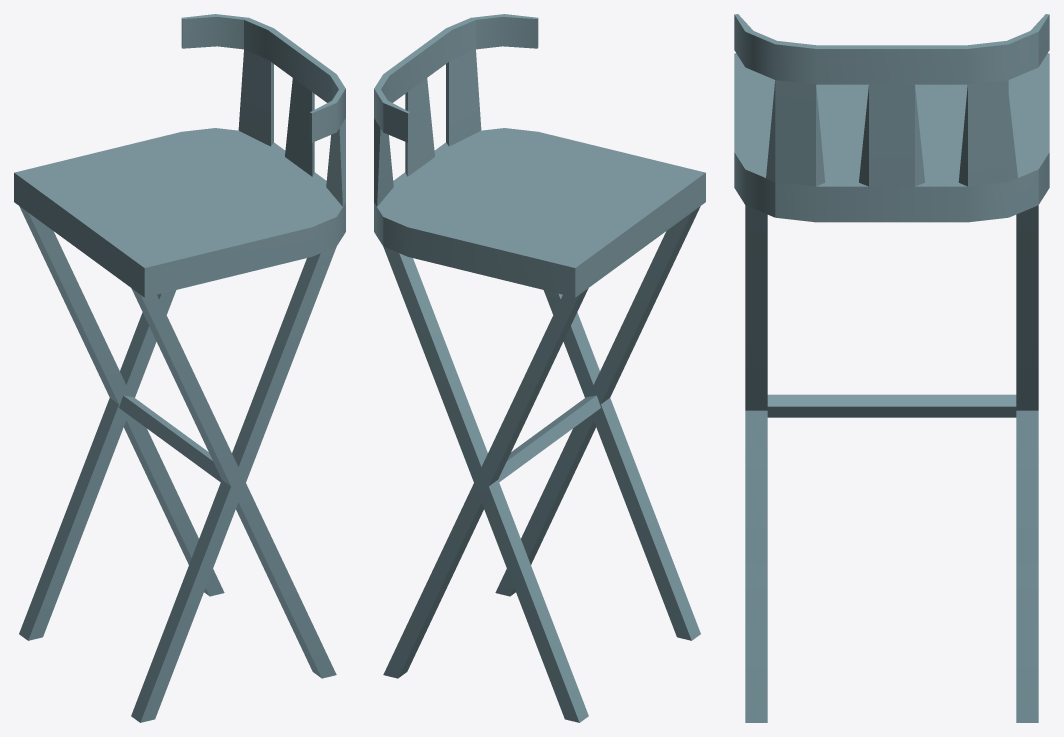
The model's file is chair-tall.glb.
3 renders of one model, left to right at view 1: azimuth 30°, elevation 25°; view 2: azimuth 150°, elevation 25°; view 3: azimuth 270°, elevation 25°, orthographic. The views are drawn at different scales.
Parts seen in each view (by area): view 1: ChairTall.001; view 2: ChairTall.001; view 3: ChairTall.001.
Part boxes in pixels (<box>): ChairTall.001: <box>14,14,345,722</box>; ChairTall.001: <box>374,14,705,722</box>; ChairTall.001: <box>734,14,1049,722</box>.
Bounding box in the file's own units: 0.4 × 0.9678 × 0.4.
1 material, 1 textured.
